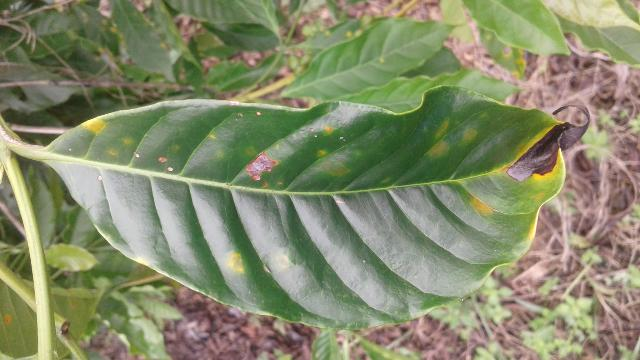rust_level_1: (41, 78, 584, 333)
